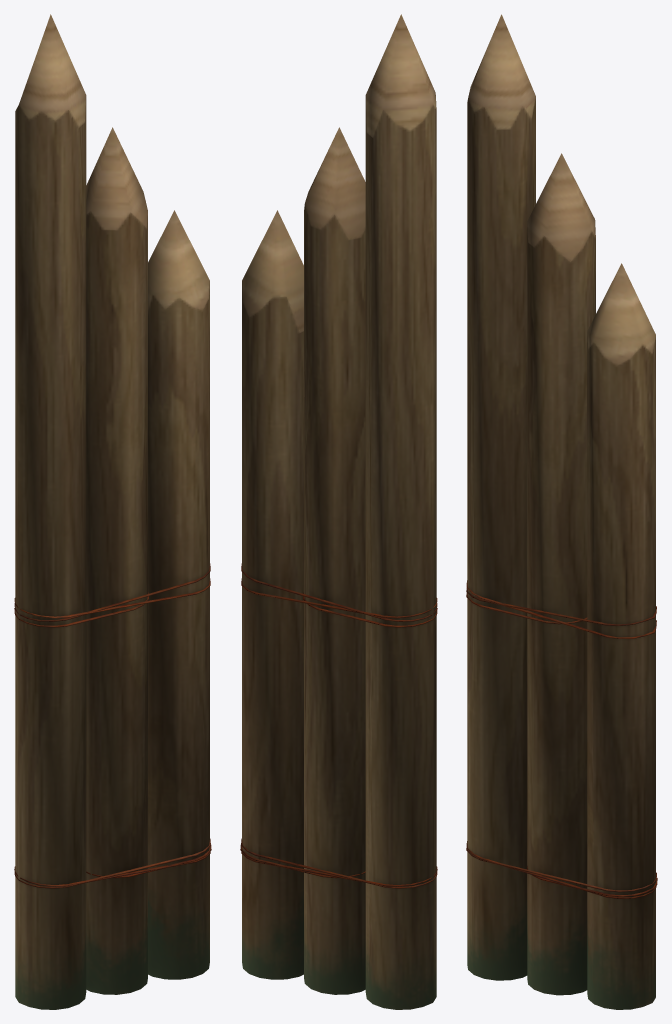
File: sb_obj_outdoor015_WoodWall01d.fbx
3 views of the same model, side by side, from view 1: azimuth 30°, elevation 25°; view 2: azimuth 150°, elevation 25°; view 3: azimuth 330°, elevation 25° (orthographic). The views are drawn at different scales.
Parts seen in each view (by area): view 1: sb_obj_outdoor015_WoodWall01d, wire_01d; view 2: sb_obj_outdoor015_WoodWall01d, wire_01d; view 3: sb_obj_outdoor015_WoodWall01d, wire_01d.
Boxes of the visible parts, x1=… form: sb_obj_outdoor015_WoodWall01d: x1=15, y1=14, x2=209, y2=1009; wire_01d: x1=14, y1=563, x2=211, y2=888; sb_obj_outdoor015_WoodWall01d: x1=242, y1=14, x2=436, y2=1009; wire_01d: x1=240, y1=563, x2=437, y2=888; sb_obj_outdoor015_WoodWall01d: x1=467, y1=14, x2=655, y2=1009; wire_01d: x1=466, y1=580, x2=657, y2=898.
Size of the model in its own units: 1.01 by 5 by 0.348.
